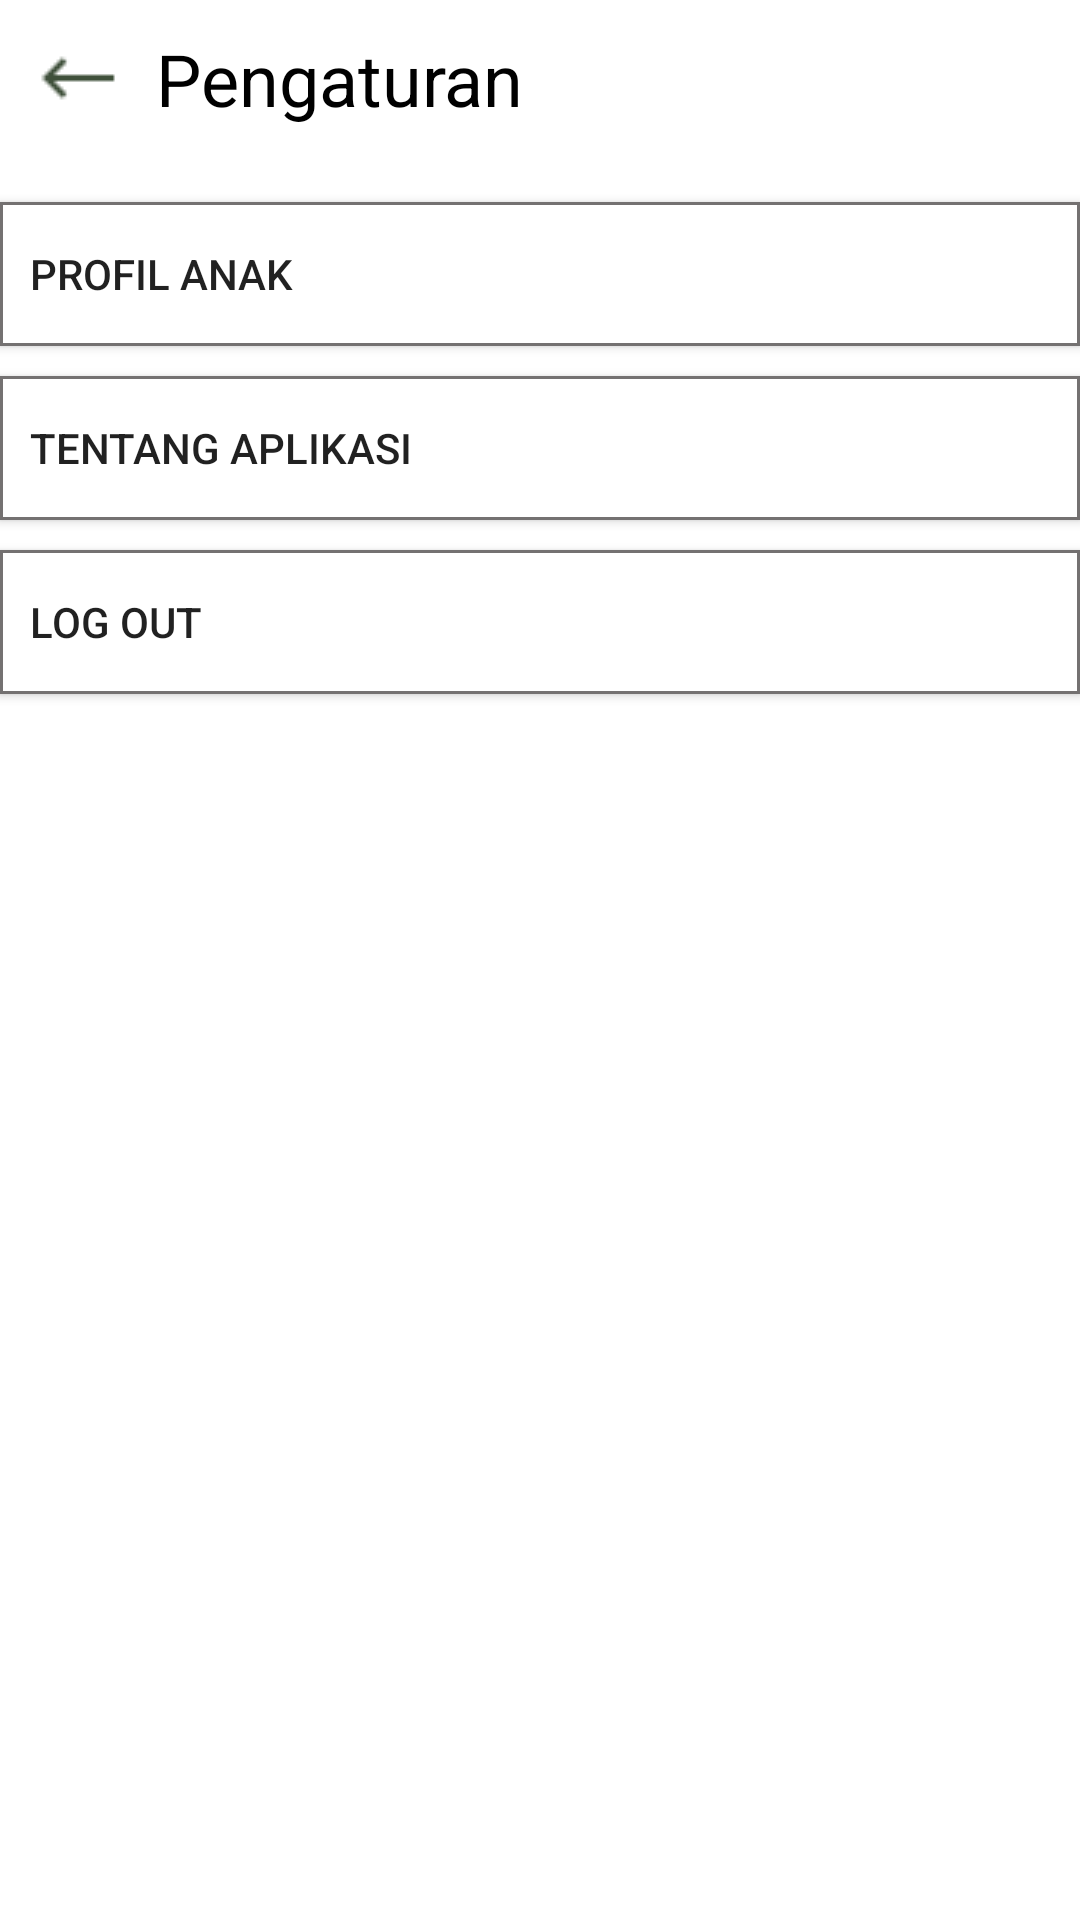

Screen size 1080px×1920px. Icon name, then its center in pixels as (x=x, y=y):
left arrow: (x=78, y=78)
